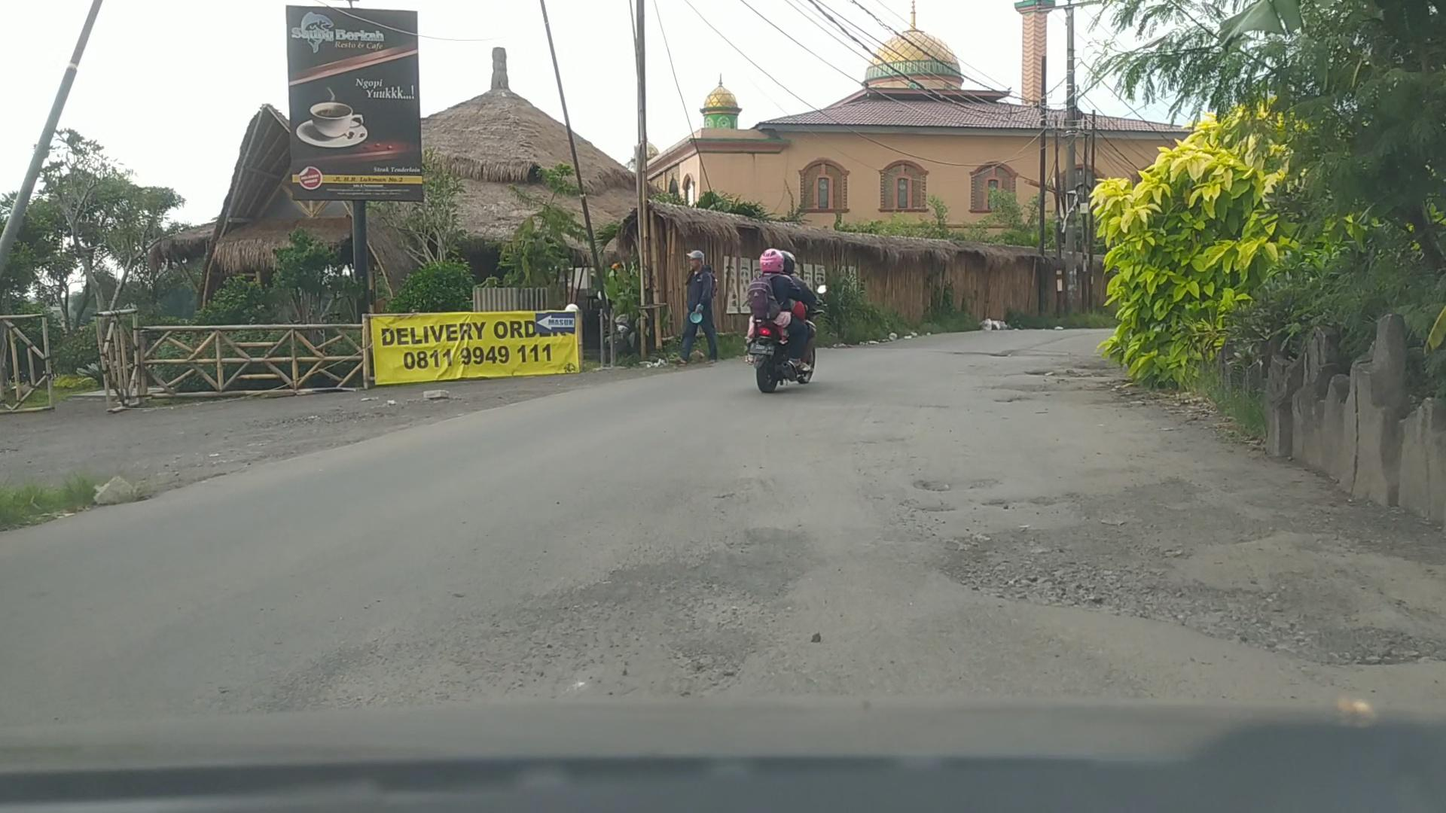pothole: (938, 521, 1423, 668)
